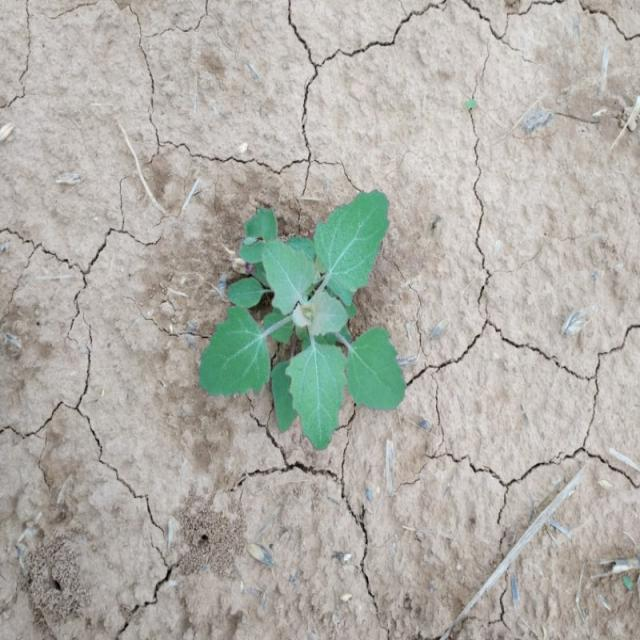goosefoots: (170, 176, 412, 437)
